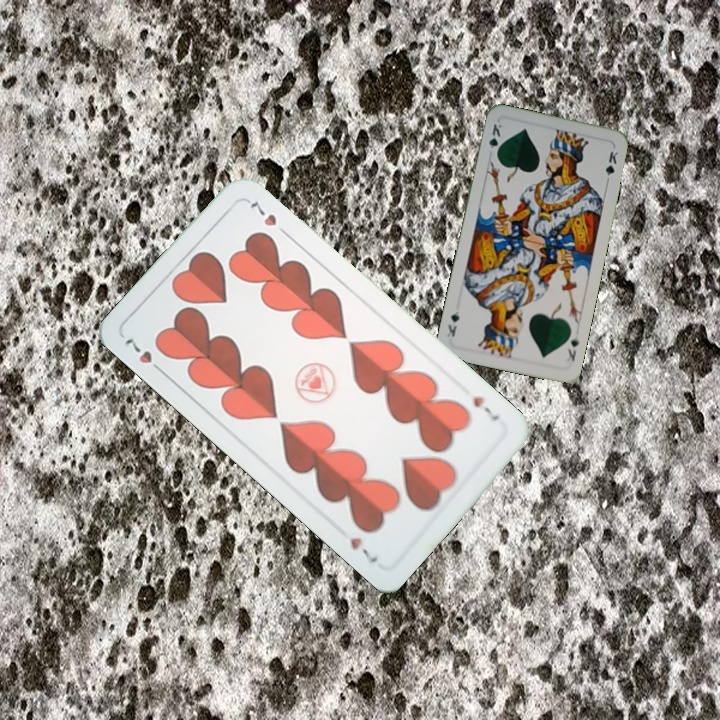GK: (485, 120, 506, 159), (563, 332, 582, 364)
H7: (121, 334, 168, 378), (468, 392, 502, 425)
